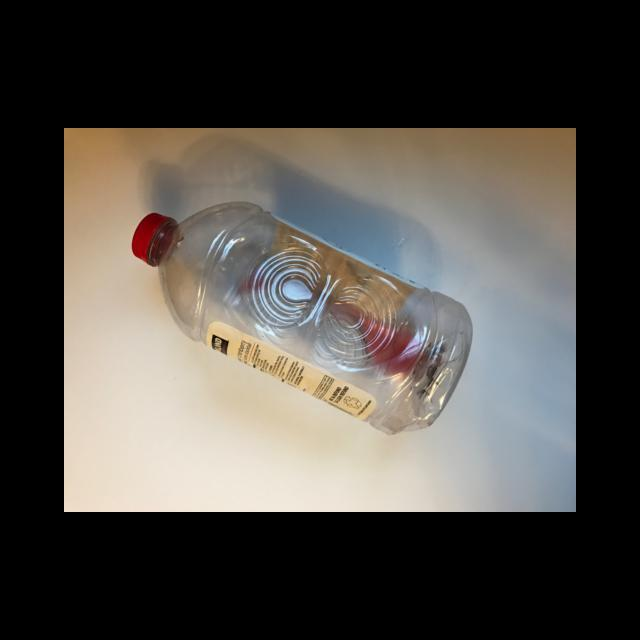plastic: (130, 202, 473, 434), (129, 212, 176, 265)
